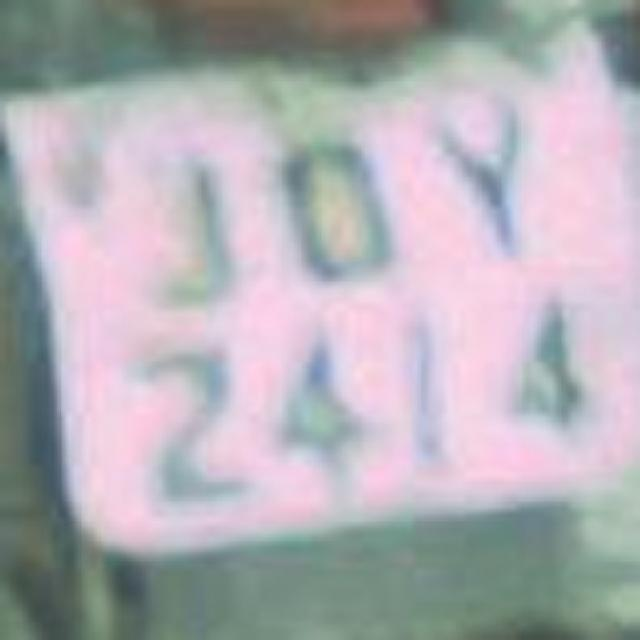1: (372, 272, 480, 476)
2: (91, 324, 284, 524)
3: (104, 324, 284, 524)
4: (248, 305, 384, 500), (484, 264, 611, 451)
D: (249, 116, 416, 292)
J: (115, 136, 260, 329)
Y: (408, 76, 548, 269)
